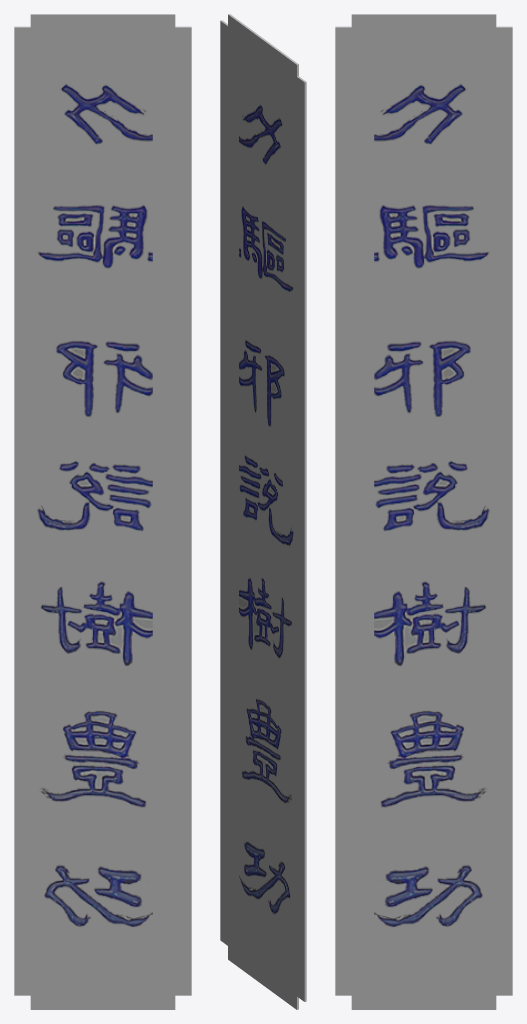
The model's file is SM_Unhyun_Norak_Joo_F001.fbx.
3 renders of one model, left to right at view 1: azimuth 90°, elevation 25°; view 2: azimuth 210°, elevation 25°; view 3: azimuth 270°, elevation 25°, orthographic. The views are drawn at different scales.
Visible parts, largest first — view 1: SM_Unhyun_Norak_Joo_F001; view 2: SM_Unhyun_Norak_Joo_F001; view 3: SM_Unhyun_Norak_Joo_F001.
Part boxes in pixels (left/top/right/bottom): SM_Unhyun_Norak_Joo_F001: left=14, top=14, right=191, bottom=1009; SM_Unhyun_Norak_Joo_F001: left=220, top=14, right=306, bottom=1009; SM_Unhyun_Norak_Joo_F001: left=335, top=14, right=512, bottom=1009.
Bounding box in the file's own units: 0.2 × 90.01 × 14.56.
